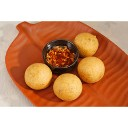bonda: (24, 62, 53, 90), (54, 73, 82, 102), (77, 58, 105, 82), (76, 31, 100, 54)
